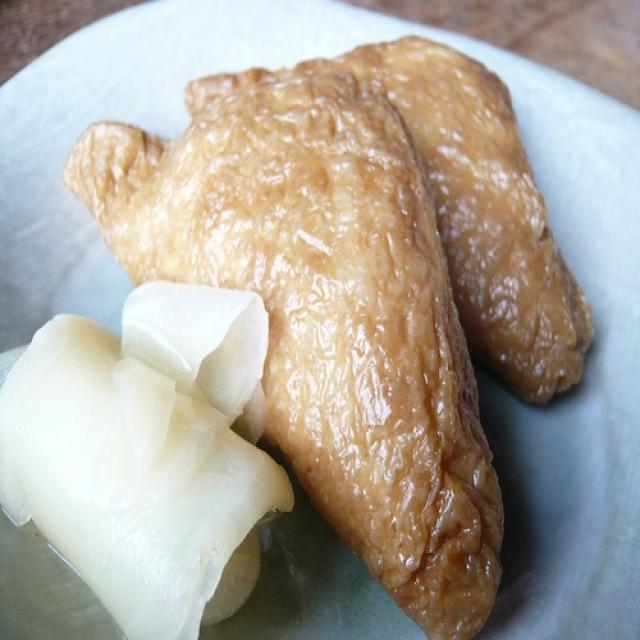寿司卷物: (32, 20, 605, 623)
